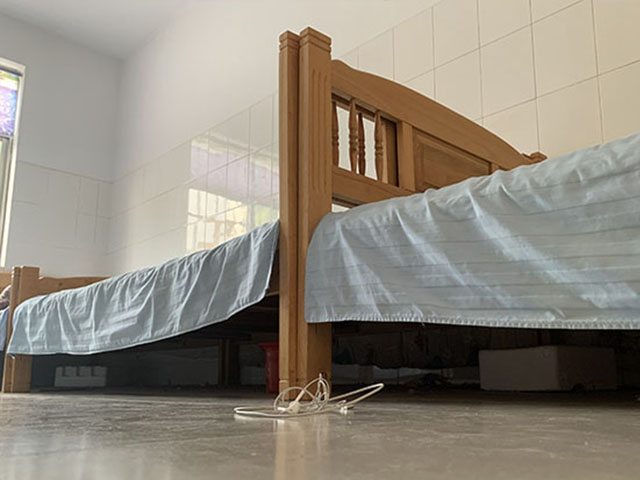bed: (298, 25, 640, 402), (2, 25, 297, 398)
wire: (233, 371, 386, 420)
